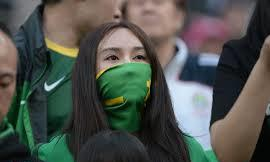NONE: (131, 1, 172, 38)
OK: (91, 44, 154, 107)
